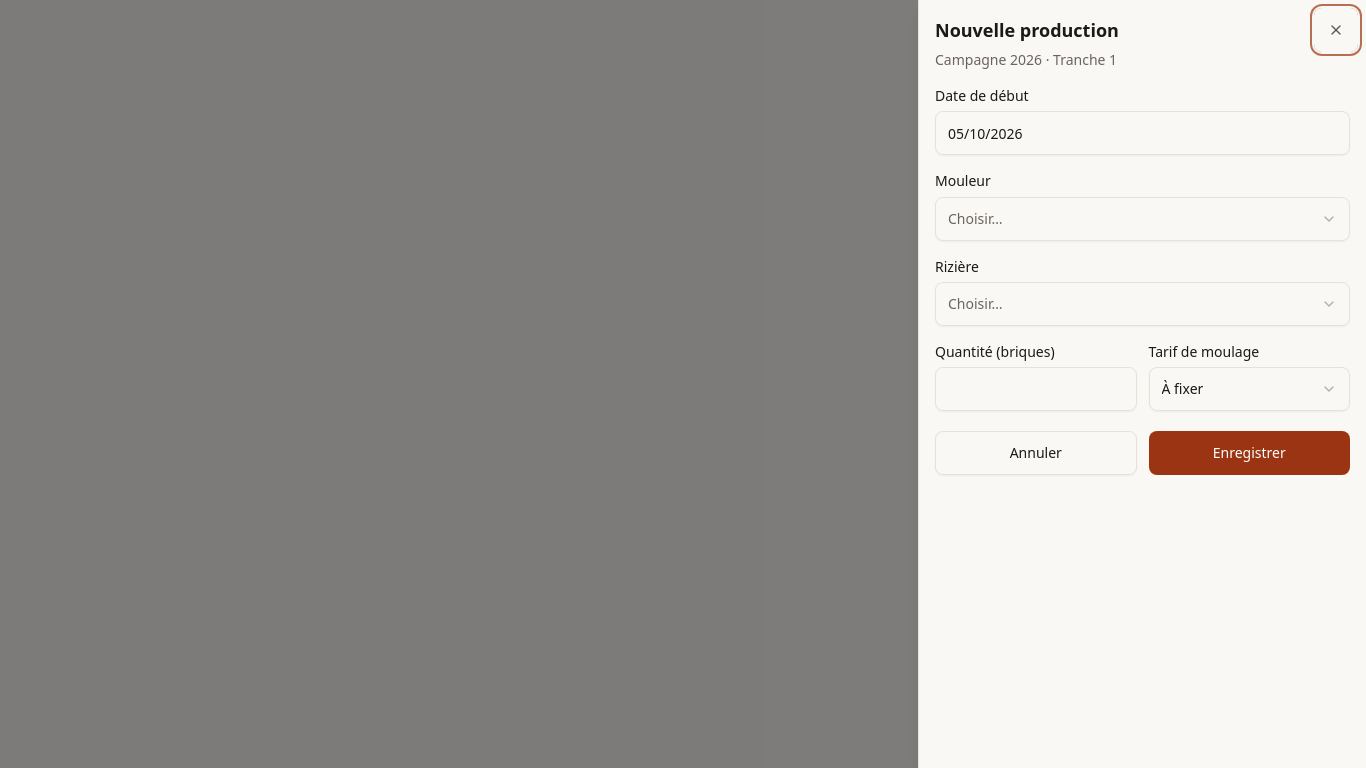
Scenario: NewProductionPage › requires a moulder, a rice field and a whole positive quantity
The image size is (1366, 768).
Type "0" into the field labelled "Quantité (briques)".
click(1036, 389); type("0")  # box [935, 367, 1136, 411]
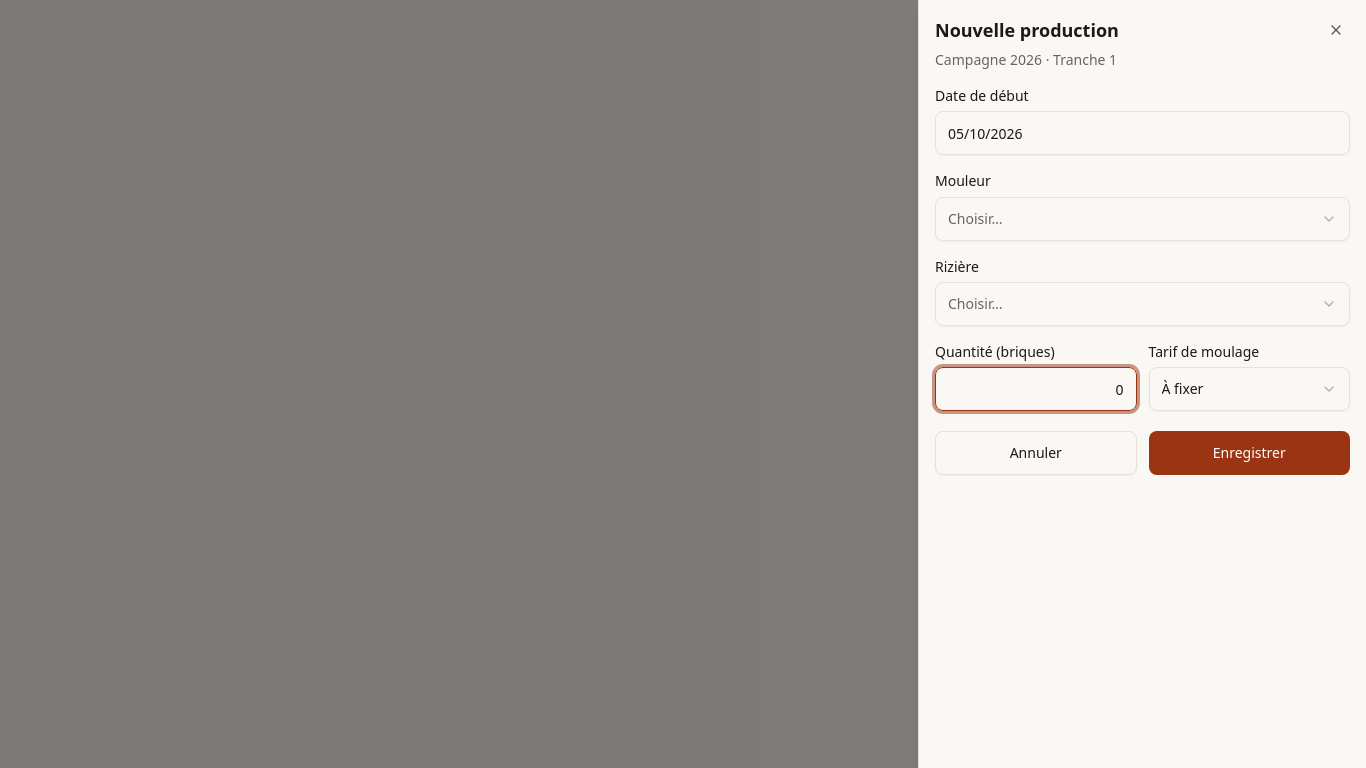
Click the button "Enregistrer".
click(1249, 453)  # box [1148, 431, 1350, 475]
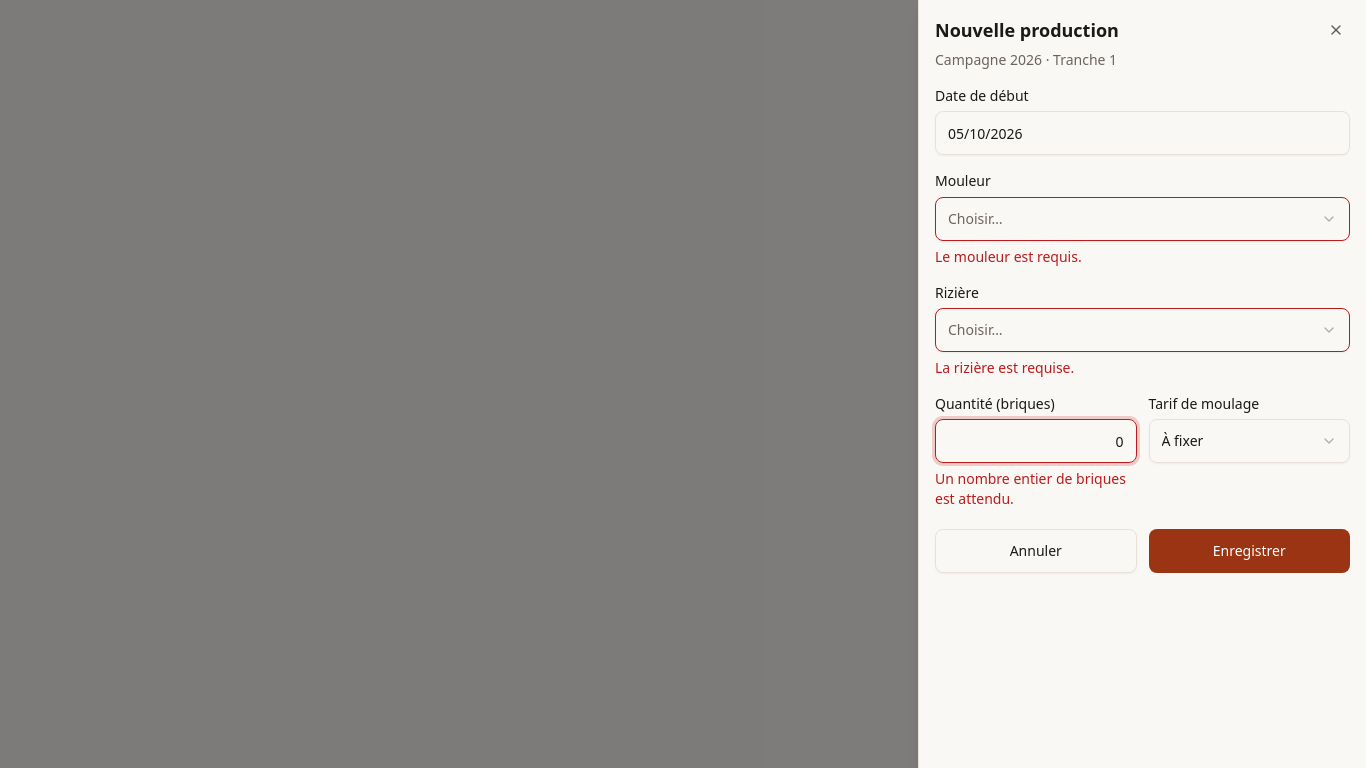
Now the messages read "Le mouleur est requis.", "La rizière est requise.", "Un nombre entier de briques est attendu.", in this order, box [935, 246, 1082, 266]; [935, 358, 1074, 377]; [935, 469, 1136, 509]
